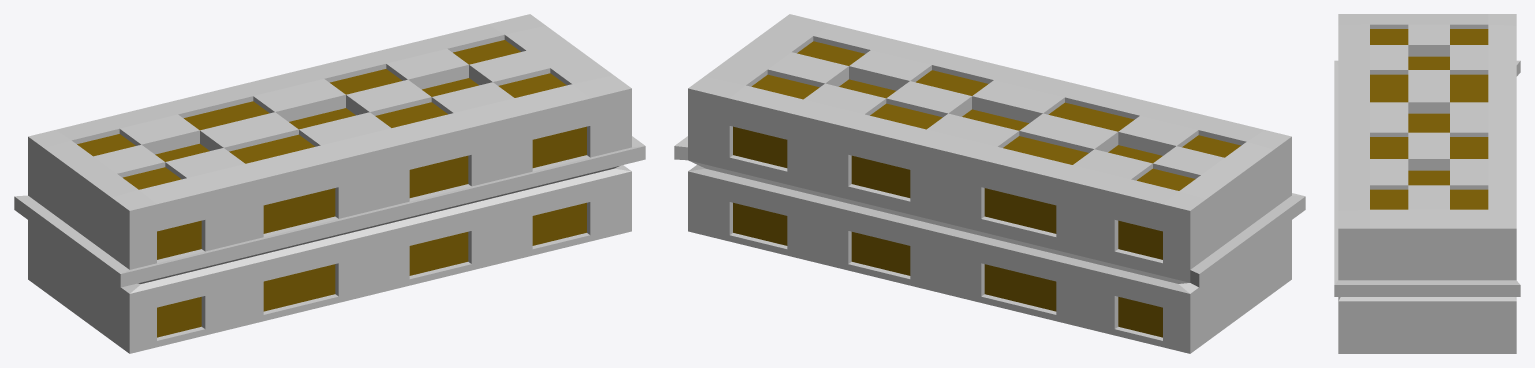
The model's file is Geonosis_box.fbx.
3 views of the same model, side by side, from view 1: azimuth 30°, elevation 25°; view 2: azimuth 150°, elevation 25°; view 3: azimuth 270°, elevation 25° (orthographic). The views are drawn at different scales.
Parts seen in each view (by area): view 1: pCube1; view 2: pCube1; view 3: pCube1.
Boxes of the visible parts, x1=… form: pCube1: x1=14, y1=14, x2=645, y2=353; pCube1: x1=674, y1=14, x2=1305, y2=353; pCube1: x1=1334, y1=14, x2=1520, y2=353.
Bounding box in the file's own units: 60.32 × 15.84 × 21.16.
